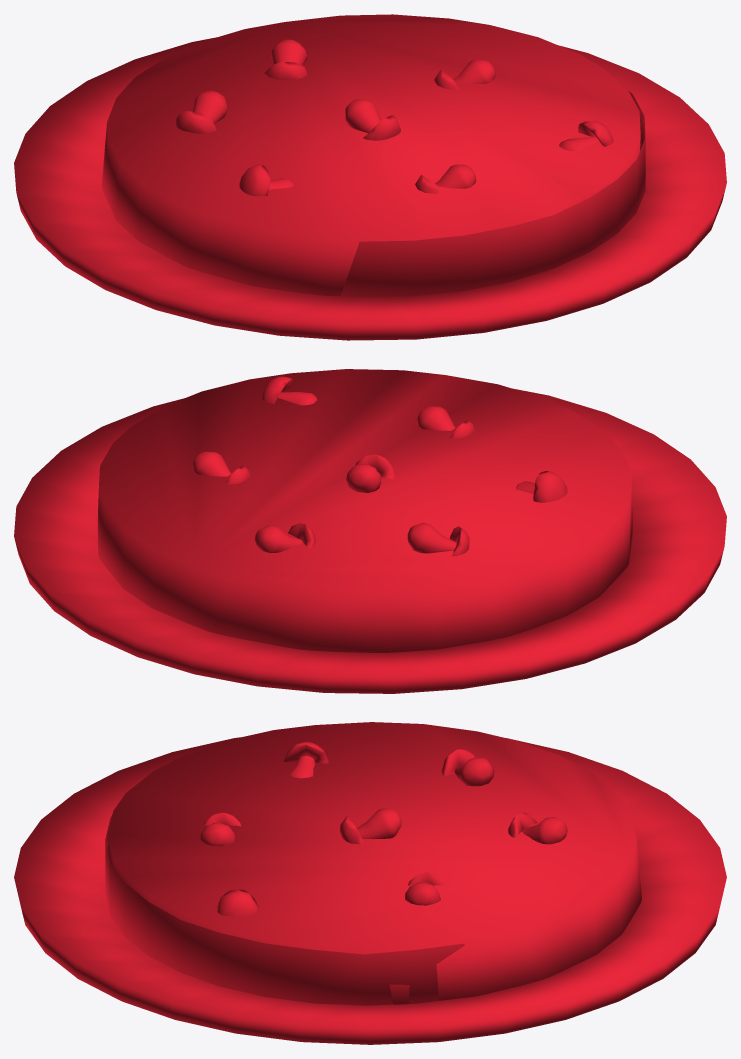
File: mushroomTortilla.fbx
3 renders of one model, top to bottom at view 1: azimuth 30°, elevation 25°; view 2: azimuth 150°, elevation 25°; view 3: azimuth 270°, elevation 25°, orthographic.
Visible parts, largest first — view 1: tortilla; view 2: tortilla; view 3: tortilla.
Boxes of the visible parts, x1,y1,x2,y2 form: tortilla: [14, 14, 726, 340]; tortilla: [14, 369, 726, 693]; tortilla: [14, 722, 726, 1044].
Size of the model in its own units: 178 by 32.93 by 178.
